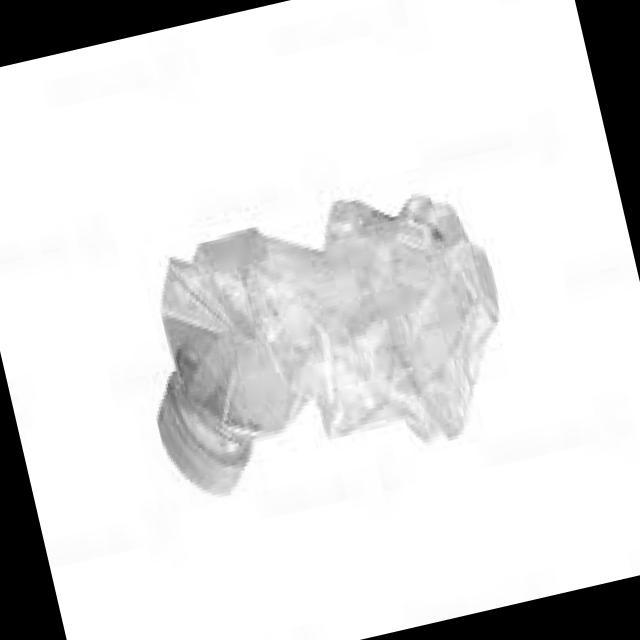defected: (112, 158, 540, 523)
